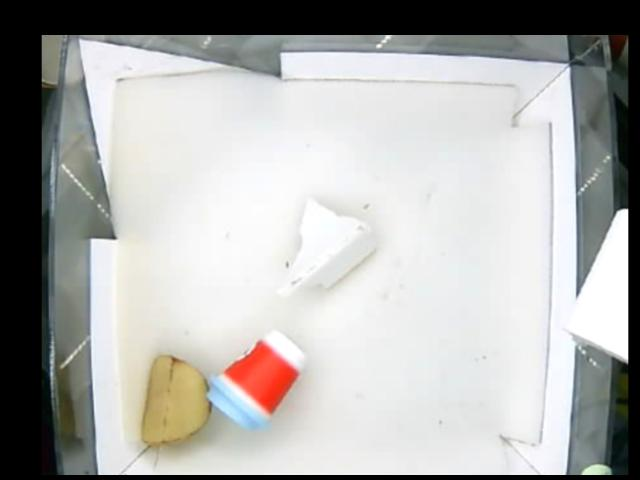China: (283, 199, 376, 297)
Cup: (203, 330, 303, 430)
Potato: (140, 355, 212, 448)
